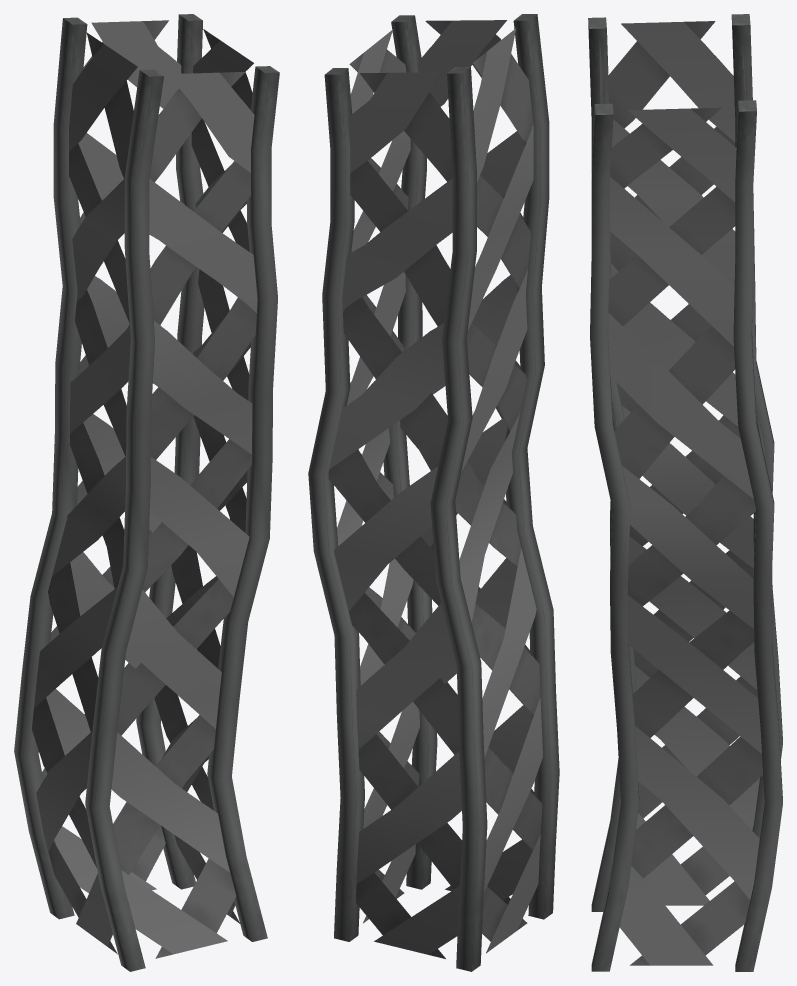
The model's file is mdlCLBeamBent.fbx.
The picture shows the model from 3 angles, left to right: view 1: azimuth 30°, elevation 25°; view 2: azimuth 150°, elevation 25°; view 3: azimuth 270°, elevation 25°; orthographic projection.
Parts seen in each view (by area): view 1: Metal Beam Bent; view 2: Metal Beam Bent; view 3: Metal Beam Bent.
Boxes of the visible parts, x1=… form: Metal Beam Bent: x1=14, y1=14, x2=279, y2=971; Metal Beam Bent: x1=308, y1=14, x2=559, y2=971; Metal Beam Bent: x1=588, y1=14, x2=782, y2=971.
Size of the model in its own units: 592 by 2894 by 570.
